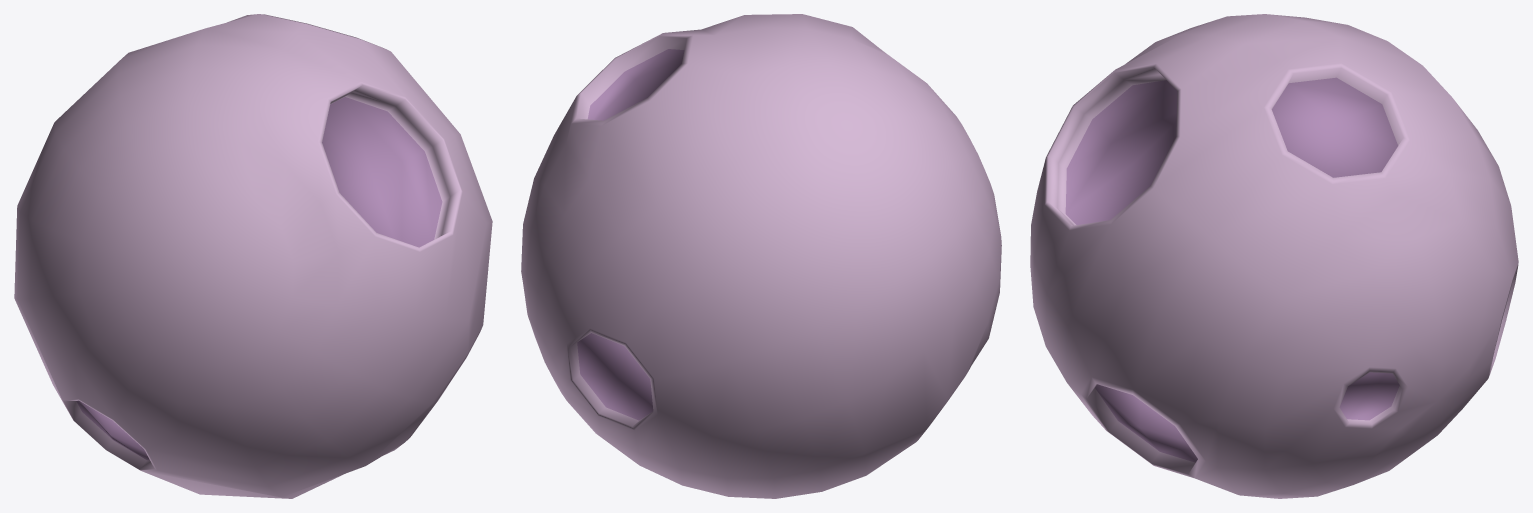
File: gezegen.fbx
3 renders of one model, left to right at view 1: azimuth 30°, elevation 25°; view 2: azimuth 150°, elevation 25°; view 3: azimuth 270°, elevation 25°, orthographic.
Visible parts, largest first — view 1: Sphere; view 2: Sphere; view 3: Sphere.
Part boxes in pixels (<box>): Sphere: <box>14,14,492,498</box>; Sphere: <box>521,14,1001,498</box>; Sphere: <box>1030,14,1518,498</box>.
Size of the model in its own units: 199 by 198 by 200.
